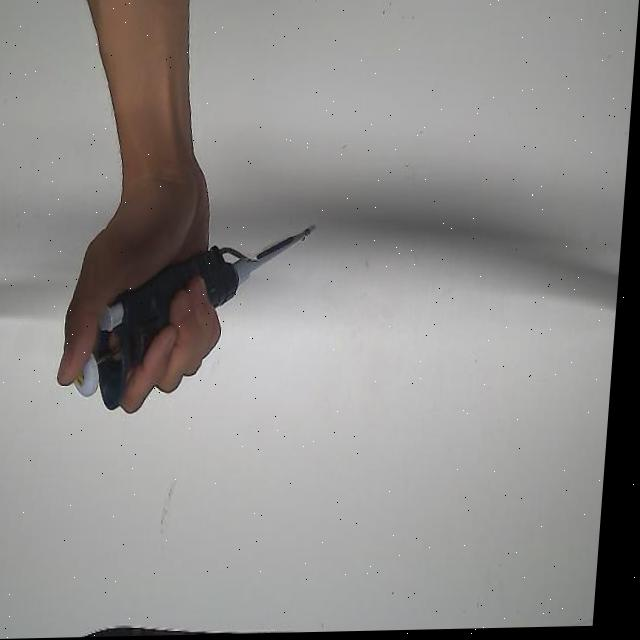Single Channel Pipettor: (76, 221, 323, 414)
